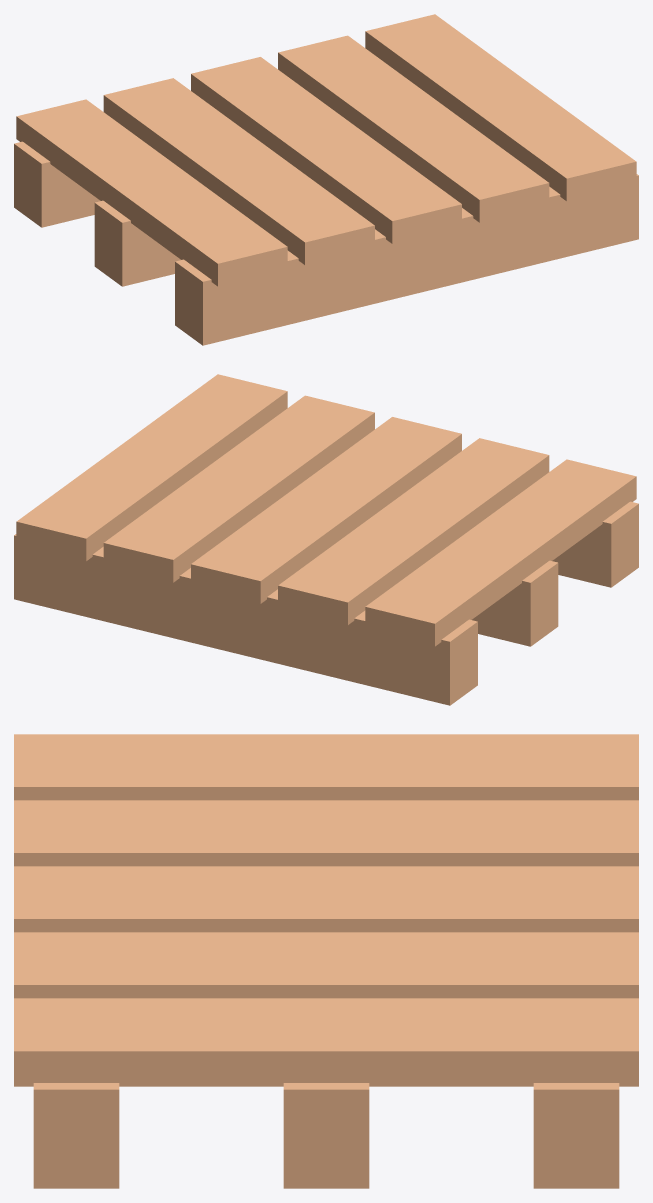
3 views of the same model, one above another, from view 1: azimuth 30°, elevation 25°; view 2: azimuth 150°, elevation 25°; view 3: azimuth 270°, elevation 25° (orthographic). The views are drawn at different scales.
Parts seen in each view (by area): view 1: Runner, Deck board, Deck board.004, Deck board.001, Deck board.003, Deck board.002, Runner.001, Runner.002; view 2: Runner.002, Deck board, Deck board.004, Deck board.001, Deck board.003, Deck board.002, Runner.001, Runner; view 3: Deck board.004, Deck board, Deck board.001, Deck board.002, Deck board.003, Runner, Runner.001, Runner.002.
Boxes of the visible parts, x1=… form: Runner: x1=175, y1=174, x2=638, y2=345; Deck board: x1=16, y1=99, x2=287, y2=286; Deck board.004: x1=365, y1=14, x2=636, y2=201; Deck board.001: x1=103, y1=78, x2=374, y2=265; Deck board.003: x1=278, y1=35, x2=549, y2=222; Deck board.002: x1=191, y1=57, x2=461, y2=243; Runner.001: x1=94, y1=200, x2=180, y2=286; Runner.002: x1=14, y1=141, x2=100, y2=227; Runner.002: x1=14, y1=534, x2=477, y2=705; Deck board: x1=365, y1=459, x2=636, y2=646; Deck board.004: x1=16, y1=374, x2=287, y2=561; Deck board.001: x1=278, y1=438, x2=549, y2=625; Deck board.003: x1=103, y1=395, x2=374, y2=582; Deck board.002: x1=191, y1=417, x2=461, y2=603; Runner.001: x1=472, y1=560, x2=558, y2=646; Runner: x1=552, y1=501, x2=638, y2=587; Deck board.004: x1=14, y1=998, x2=638, y2=1086; Deck board: x1=14, y1=734, x2=638, y2=800; Deck board.001: x1=14, y1=800, x2=638, y2=866; Deck board.002: x1=14, y1=866, x2=638, y2=932; Deck board.003: x1=14, y1=932, x2=638, y2=998; Runner: x1=33, y1=1083, x2=119, y2=1188; Runner.001: x1=283, y1=1083, x2=369, y2=1188; Runner.002: x1=533, y1=1083, x2=619, y2=1188.
Bounding box in the file's own units: 100 × 18.5 × 80.
